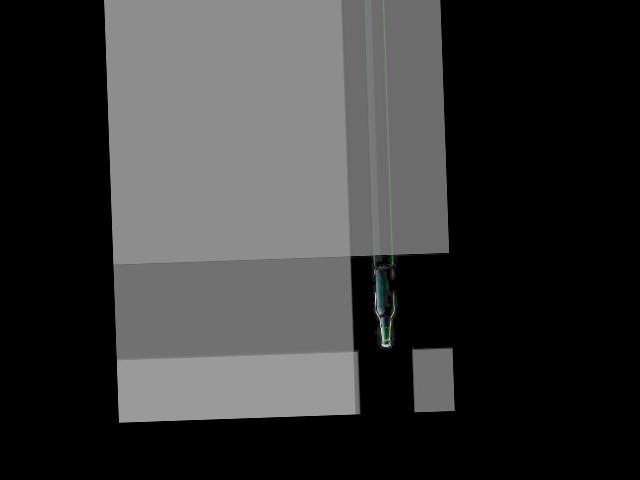beer: (373, 268, 395, 347)
